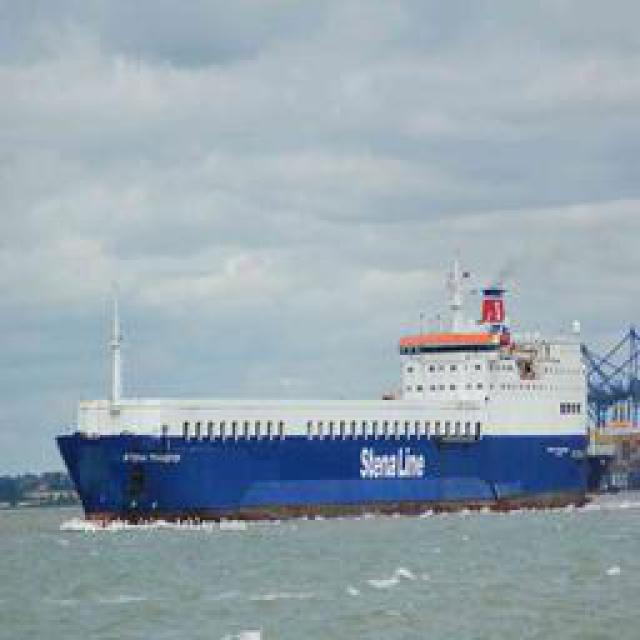Ship: (45, 248, 623, 526)
